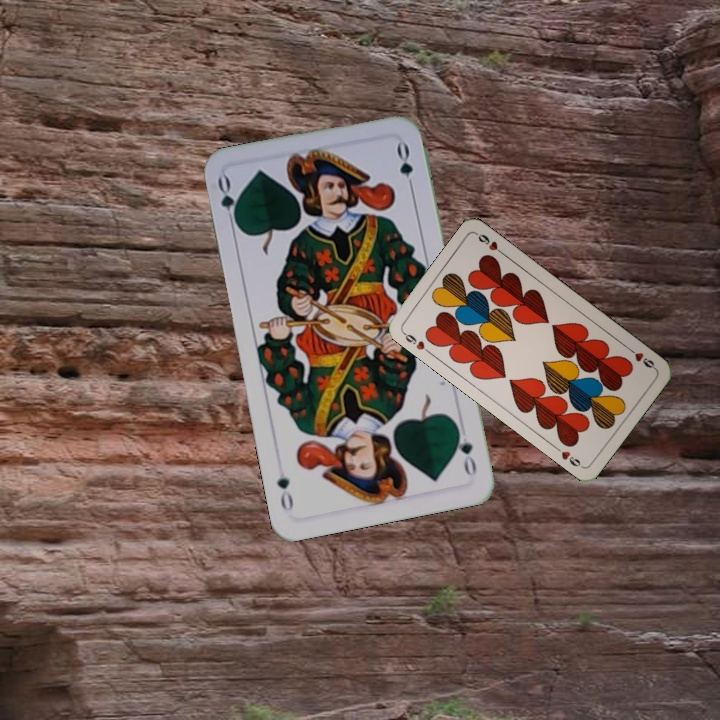GO: (213, 172, 242, 231), (452, 422, 479, 480)
H9: (398, 328, 434, 357), (623, 343, 658, 372)
